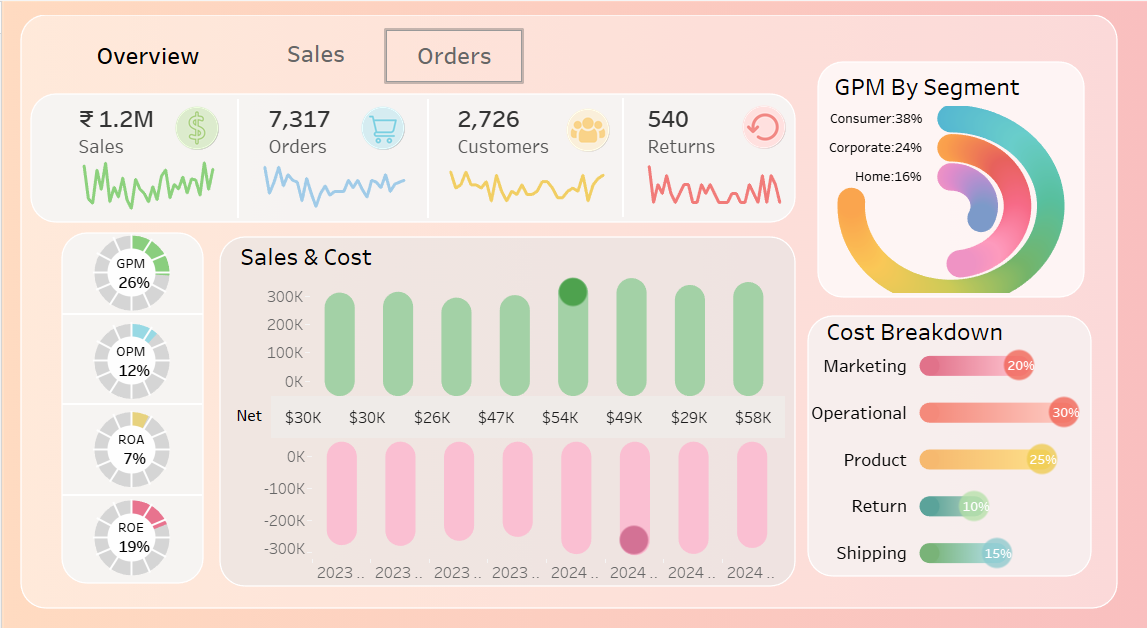

The page's visual inventory and layout, read from the dashboard file:
{"tool":"tableau","page":{"name":"Overview (2)","canvas":[1000,1000],"units":"permille","ordinal":2},"visuals":[{"type":"dashboard-object","box":[179.2,44.6,126.2,82.8]},{"type":"dashboard-object","box":[295.4,47.8,104.6,82.8]},{"type":"text","box":[55.4,55.7,113.9,62.1]},{"type":"text","box":[637.7,113.1,154.6,47.8]},{"type":"text","box":[476.9,156.1,1.5,189.5]},{"type":"text","box":[180.8,157.6,1.5,189.5]},{"type":"text","box":[326.9,157.6,1.5,189.5]},{"type":"worksheet","title":"KPI Metrics/values","mark":"Automatic","box":[55.4,162.4,583.9,89.2]},{"type":"image","param":"C:/Users/Nida/Downloads/Returns Icon.png","box":[567.7,164,37.7,74.8]},{"type":"image","param":"C:/Users/Nida/Downloads/Sales Icon.png","box":[131.5,165.6,37.7,74.8]},{"type":"image","param":"C:/Users/Nida/Downloads/Orders Icon.png","box":[274.6,165.6,37.7,74.8]},{"type":"image","param":"C:/Users/Nida/Downloads/Customer Icon.png","box":[432.3,168.8,37.7,74.8]},{"type":"worksheet","title":"Radial Chart","mark":"Line","box":[634.6,168.8,190,297.8]},{"type":"worksheet","title":"Spark-Returns","mark":"Automatic","rows":["Returns"],"cols":["Order Date"],"box":[490.8,250,113.9,86]},{"type":"worksheet","title":"Spark-Sales","mark":"Automatic","rows":["Sales"],"cols":["Order Date"],"box":[56.1,251.6,112.3,95.5]},{"type":"worksheet","title":"Spark-orders","mark":"Automatic","rows":["Order ID"],"cols":["Order Date"],"box":[194.6,256.4,121.5,95.5]},{"type":"worksheet","title":"Spark-Customer","mark":"Automatic","rows":["Customer ID"],"cols":["Order Date"],"box":[336.9,262.7,133.1,92.4]},{"type":"worksheet","title":"Seg-Donuts","mark":"Automatic","rows":["Metric"],"cols":["Calculation_600104674914955286","Calculation_600104674914975768"],"box":[44.6,364.7,110.8,562.1]},{"type":"text","box":[180.8,382.2,106.9,51]},{"type":"worksheet","title":"Sales Bar","mark":"Automatic","rows":["Sales"],"cols":["Order Date"],"box":[176.9,434.7,419.2,202.2]},{"type":"text","box":[46.1,498.4,107.7,3.2]},{"type":"text","box":[46.1,498.4,108.5,3.2]},{"type":"text","box":[46.1,498.4,107.7,3.2]},{"type":"text","box":[46.1,498.4,107.7,3.2]},{"type":"text","box":[631.5,504.8,143.1,44.6]},{"type":"worksheet","title":"Bars with Bubbles","mark":"Line","rows":["Type of Cost"],"cols":["Cost"],"box":[607.7,544.6,226.2,372.6]},{"type":"worksheet","title":"Net","mark":"Automatic","cols":["Calculation_600104674937024543"],"box":[206.9,630.6,395.4,66.9]},{"type":"text","box":[177.7,638.5,33.9,46.2]},{"type":"text","box":[46.1,641.7,107.7,3.2]},{"type":"worksheet","title":"cost bar","mark":"Automatic","rows":["Calculation_600104674943983654"],"cols":["Quarter-Year"],"box":[175.4,695.9,423.9,234.1]},{"type":"text","box":[46.1,786.6,107.7,3.2]}]}

Visuals, with their boxes on the dashboard's canvas, which has no fixed pixel size, in thousandths of its width and height (x1, y1, x2, y2). These are canvas units, not pixel positions in the 1147x628 screenshot, which may show the page scaled, cropped or inside an application window:
dashboard-object: bbox(179, 45, 305, 127)
dashboard-object: bbox(295, 48, 400, 131)
text: bbox(55, 56, 169, 118)
text: bbox(638, 113, 792, 161)
text: bbox(477, 156, 478, 346)
text: bbox(181, 158, 182, 347)
text: bbox(327, 158, 328, 347)
"KPI Metrics/values" worksheet: bbox(55, 162, 639, 252)
image: bbox(568, 164, 605, 239)
image: bbox(132, 166, 169, 240)
image: bbox(275, 166, 312, 240)
image: bbox(432, 169, 470, 244)
"Radial Chart" worksheet (Line marks): bbox(635, 169, 825, 467)
"Spark-Returns" worksheet: bbox(491, 250, 605, 336)
"Spark-Sales" worksheet: bbox(56, 252, 168, 347)
"Spark-orders" worksheet: bbox(195, 256, 316, 352)
"Spark-Customer" worksheet: bbox(337, 263, 470, 355)
"Seg-Donuts" worksheet: bbox(45, 365, 155, 927)
text: bbox(181, 382, 288, 433)
"Sales Bar" worksheet: bbox(177, 435, 596, 637)
text: bbox(46, 498, 154, 502)
text: bbox(46, 498, 155, 502)
text: bbox(46, 498, 154, 502)
text: bbox(46, 498, 154, 502)
text: bbox(632, 505, 775, 549)
"Bars with Bubbles" worksheet (Line marks): bbox(608, 545, 834, 917)
"Net" worksheet: bbox(207, 631, 602, 698)
text: bbox(178, 638, 212, 685)
text: bbox(46, 642, 154, 645)
"cost bar" worksheet: bbox(175, 696, 599, 930)
text: bbox(46, 787, 154, 790)
